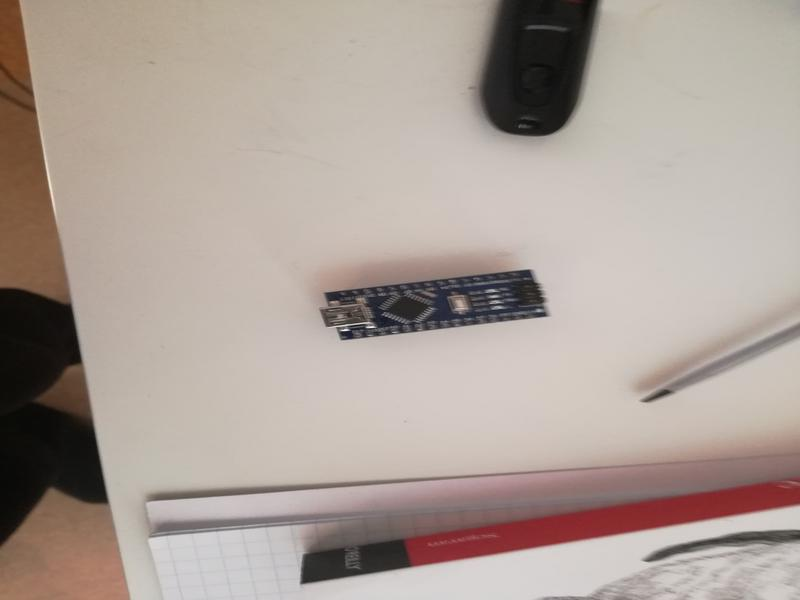Arduino_Nano: (317, 265, 556, 342)
